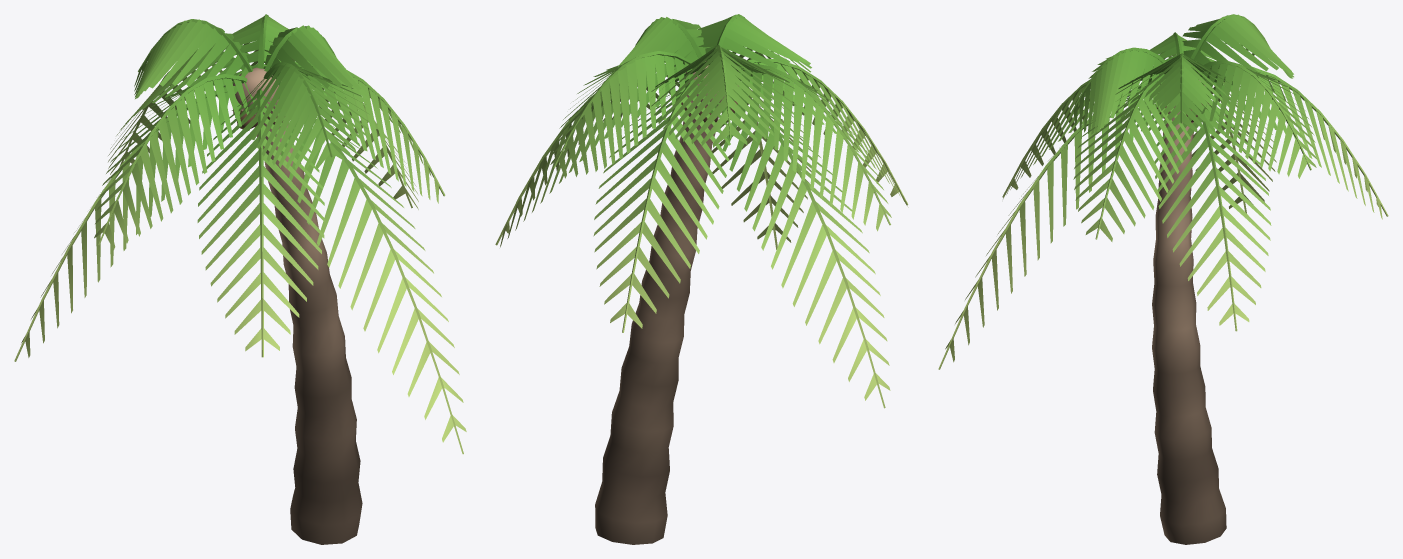
Rendered from Palm_B.glb.
The picture shows the model from 3 angles, left to right: view 1: azimuth 30°, elevation 25°; view 2: azimuth 150°, elevation 25°; view 3: azimuth 270°, elevation 25°; orthographic projection. The views are drawn at different scales.
Visible parts, largest first — view 1: Palm_B; view 2: Palm_B; view 3: Palm_B.
Boxes of the visible parts, x1,y1,x2,y2 form: Palm_B: (14, 14, 466, 544); Palm_B: (495, 14, 908, 544); Palm_B: (938, 14, 1388, 544).
Bounding box in the file's own units: 6.46 × 8.25 × 7.12.
